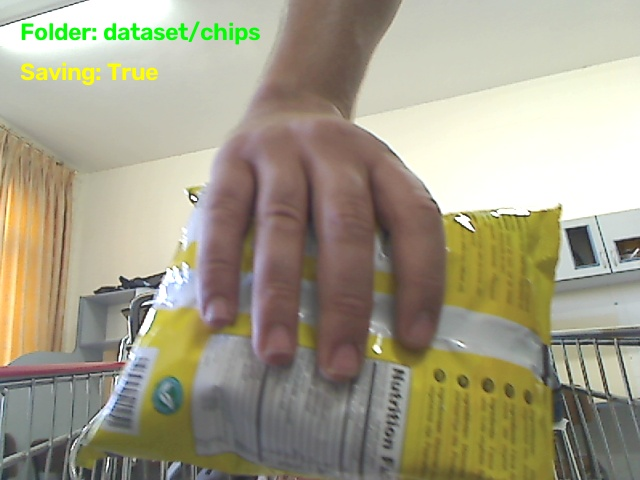chips: (74, 205, 559, 479)
